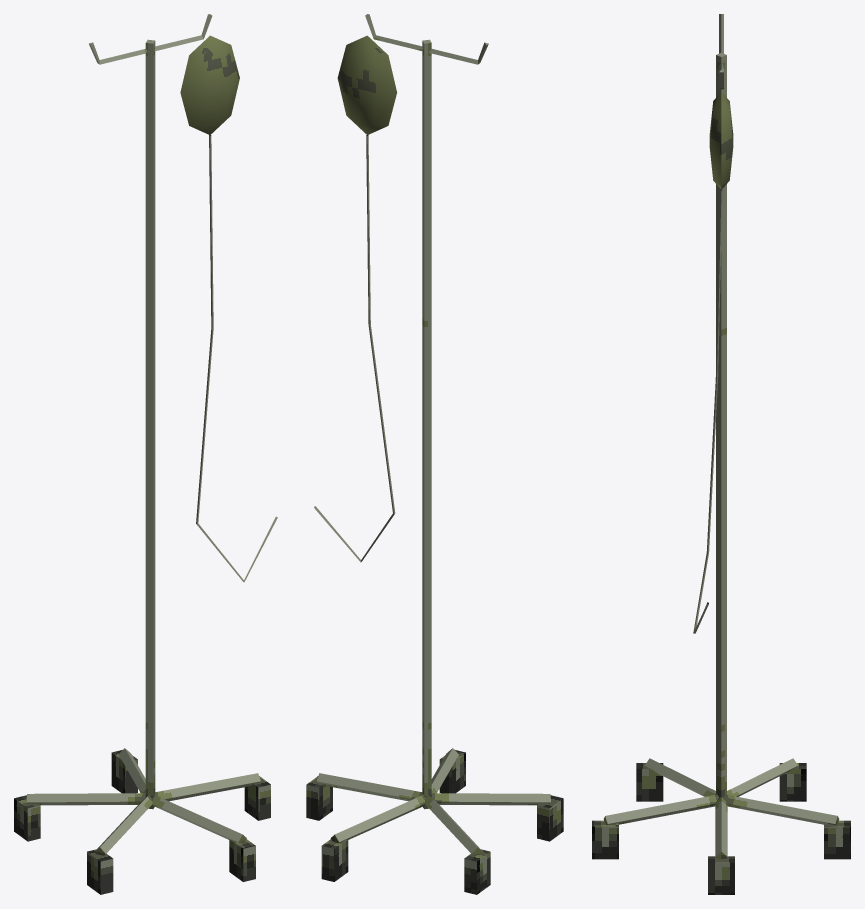
Rendered from IV_Stand_01.glb.
3 views of the same model, side by side, from view 1: azimuth 30°, elevation 25°; view 2: azimuth 150°, elevation 25°; view 3: azimuth 270°, elevation 25° (orthographic).
Parts seen in each view (by area): view 1: IV_Stand_01; view 2: IV_Stand_01; view 3: IV_Stand_01.
Boxes of the visible parts, x1,y1,x2,y2 form: IV_Stand_01: [14, 14, 277, 894]; IV_Stand_01: [306, 14, 563, 894]; IV_Stand_01: [592, 14, 850, 894].
Size of the model in its own units: 0.5363 by 1.95 by 0.5736.
Materials: 1 (1 with a texture image).
